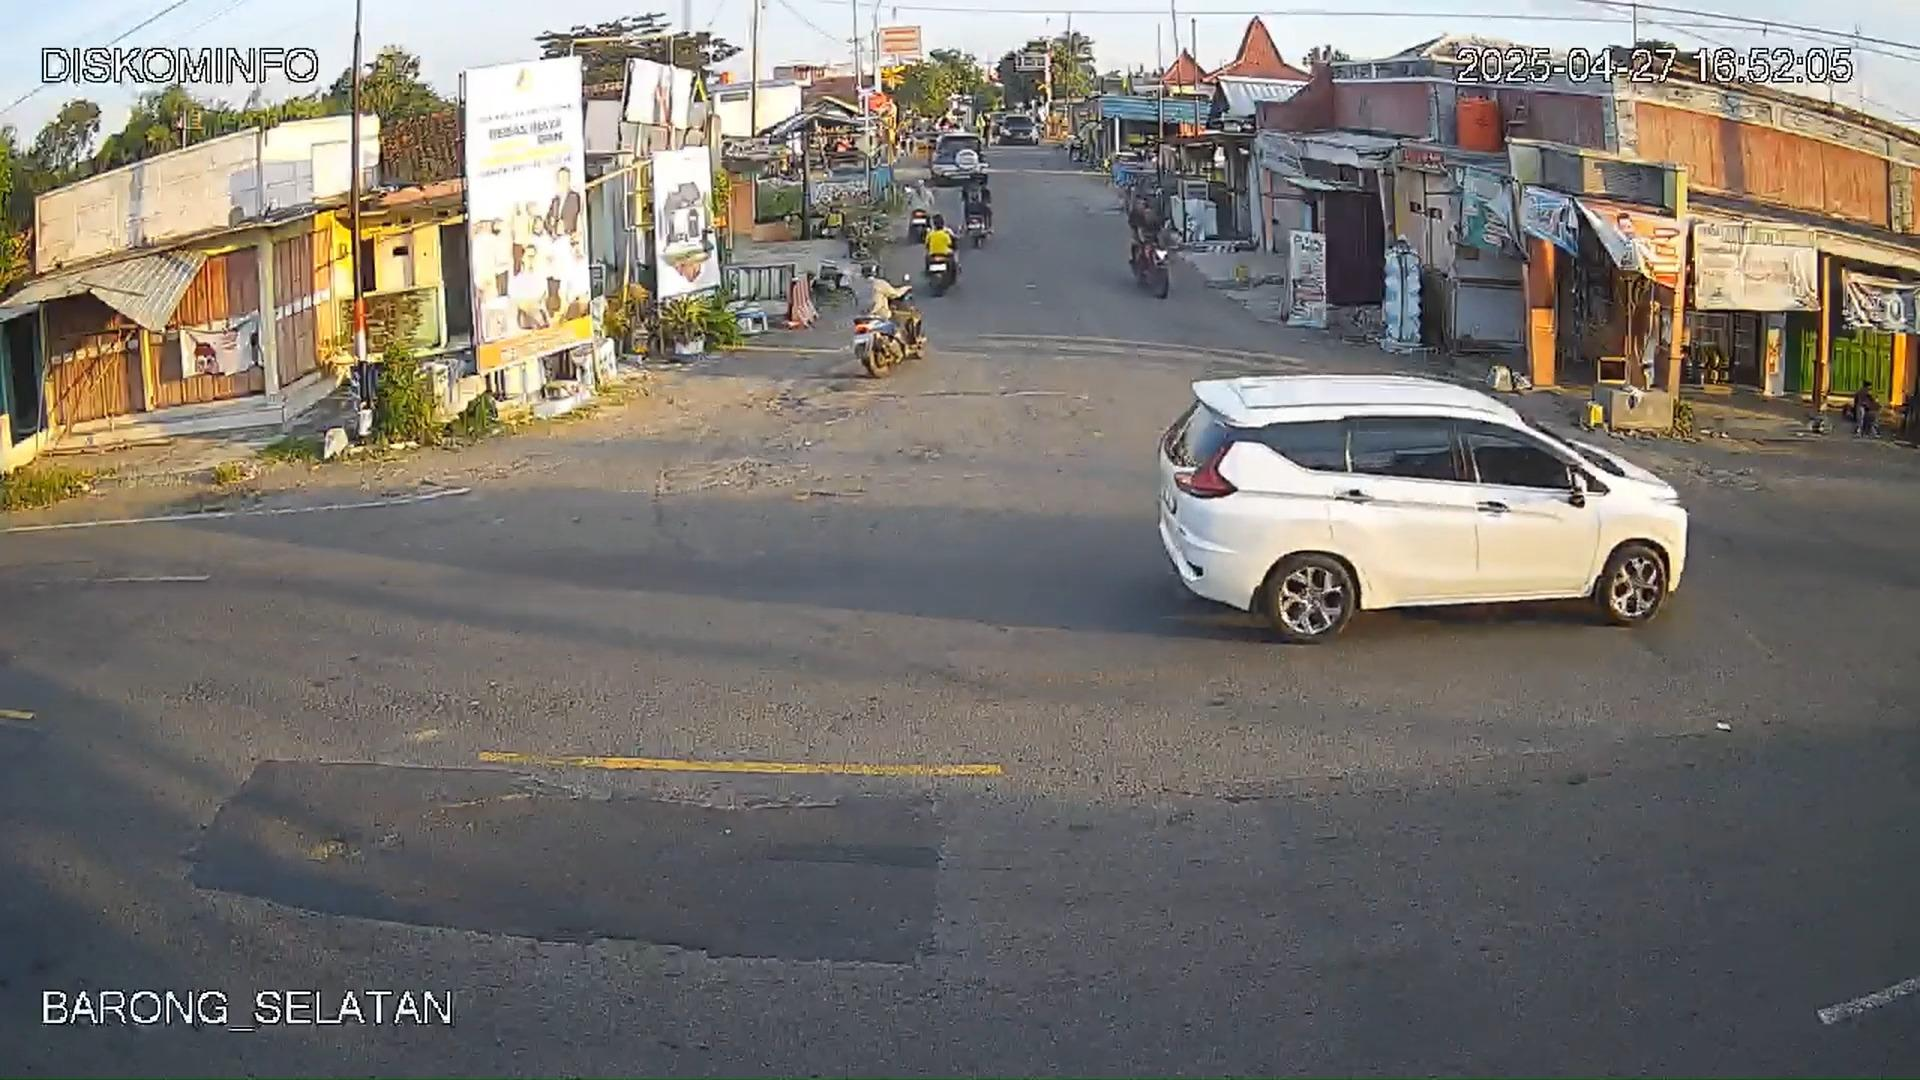Motor: (857, 294, 930, 376)
mobil: (1167, 367, 1692, 637)
